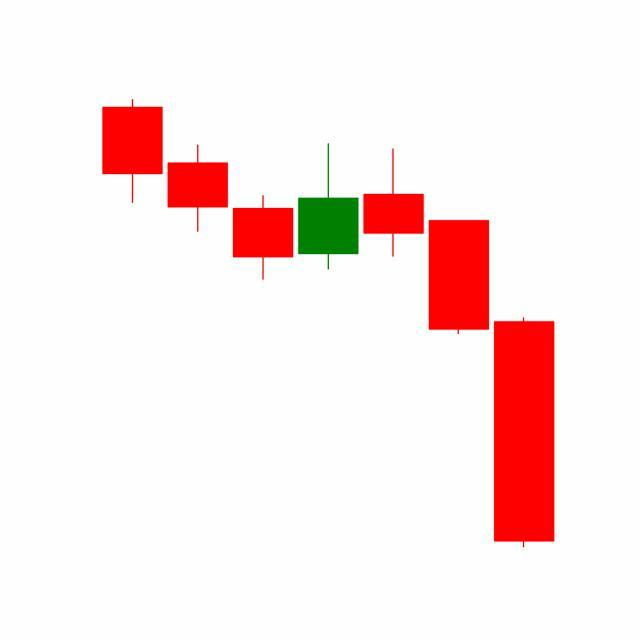Hikkake Pattern: (165, 142, 492, 338)
